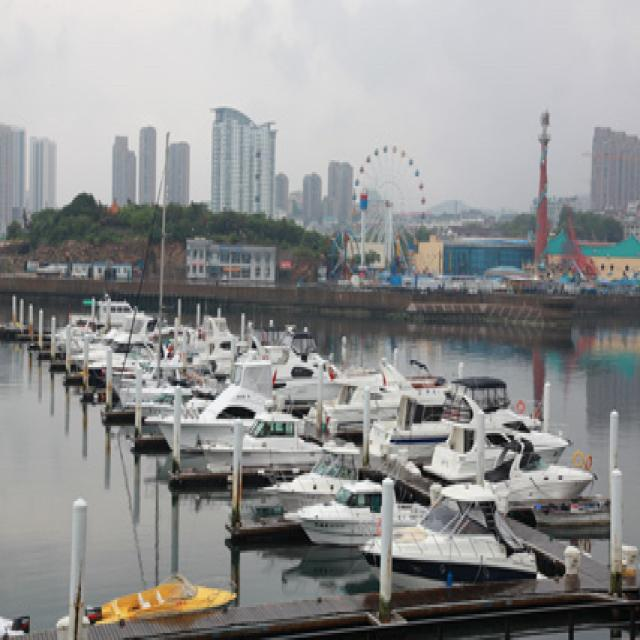passenger ship: (159, 389, 281, 524), (392, 376, 578, 458), (438, 414, 574, 514), (357, 519, 528, 595), (290, 472, 400, 535), (220, 417, 315, 481)
